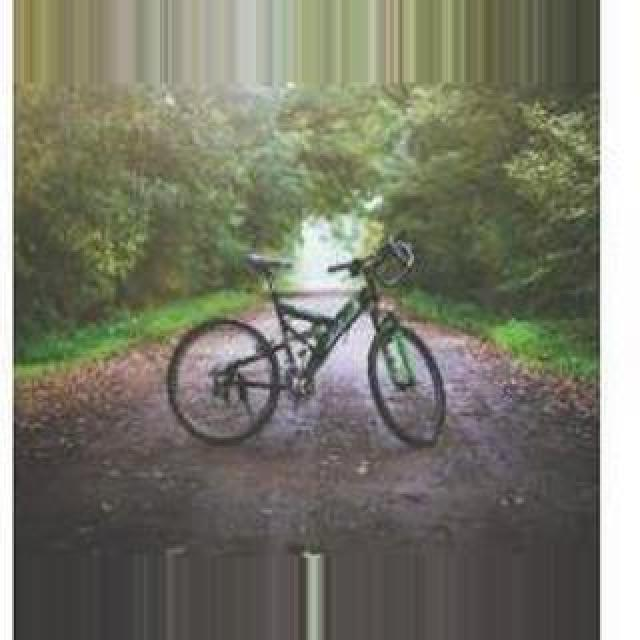Person: (168, 234, 450, 448)
